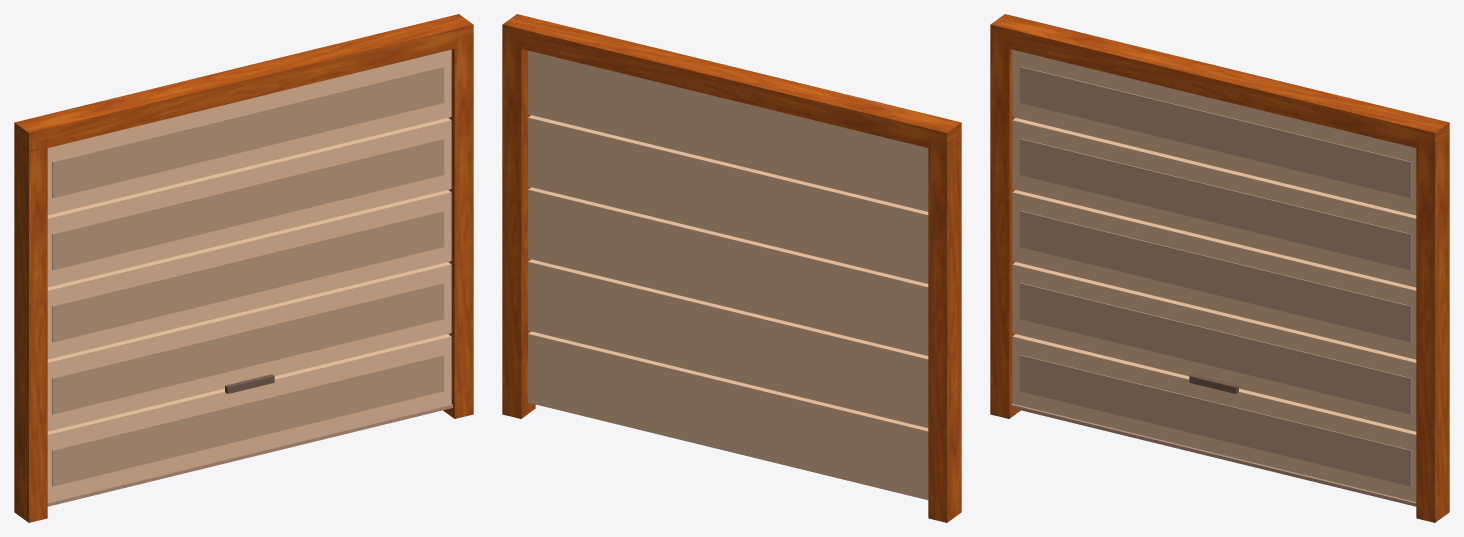
Rendered from Door_Garage.fbx.
The picture shows the model from 3 angles, left to right: view 1: azimuth 30°, elevation 25°; view 2: azimuth 150°, elevation 25°; view 3: azimuth 330°, elevation 25°; orthographic projection.
Visible parts, largest first — view 1: Door_Garage; view 2: Door_Garage; view 3: Door_Garage.
Boxes of the visible parts, bbox=[...] form: Door_Garage: bbox=[14, 14, 473, 522]; Door_Garage: bbox=[502, 14, 961, 522]; Door_Garage: bbox=[990, 14, 1449, 522].
Bounding box in the file's own units: 2.84 × 2.38 × 0.16.
